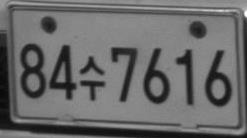1: (174, 48, 202, 105)
4: (48, 44, 77, 100)
6: (204, 49, 232, 108), (142, 48, 170, 105)
7: (110, 46, 137, 102)
8: (18, 42, 45, 99)
수: (78, 54, 105, 101)
